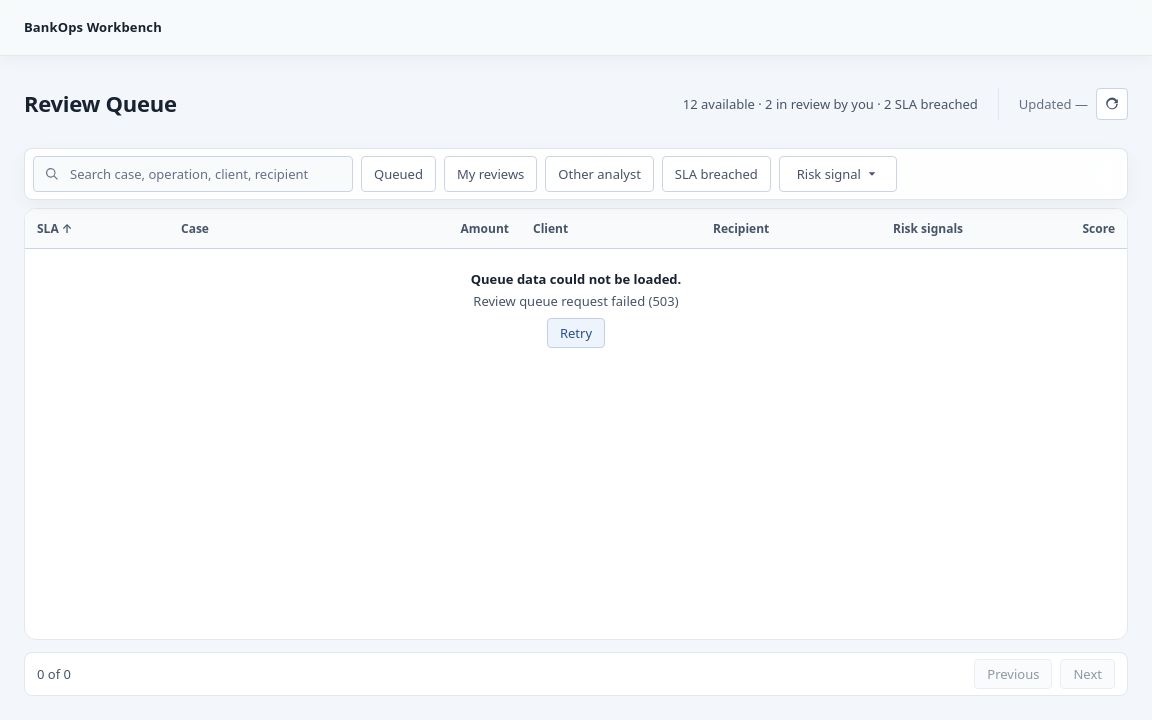
Test: Review Queue asynchronous server state › distinguishes a request error from an empty result and Retry performs a real request
Expected: the text "Queue data could not be loaded." is shown, [471,270,681,288]
Click the button "Retry" at x=576, y=333, box [547,318,605,348]
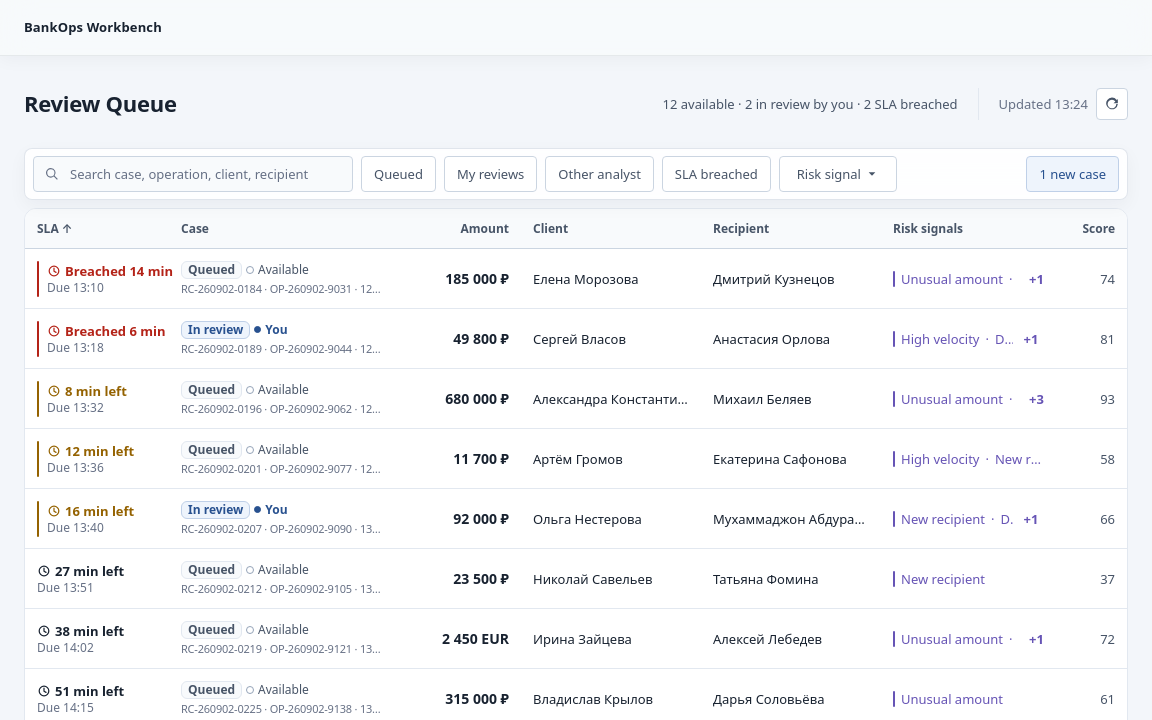
Now the text "RC-260902-0184" is shown, box [181,280,262,296]
Now the text "Queue data could not be loaded." is gone
